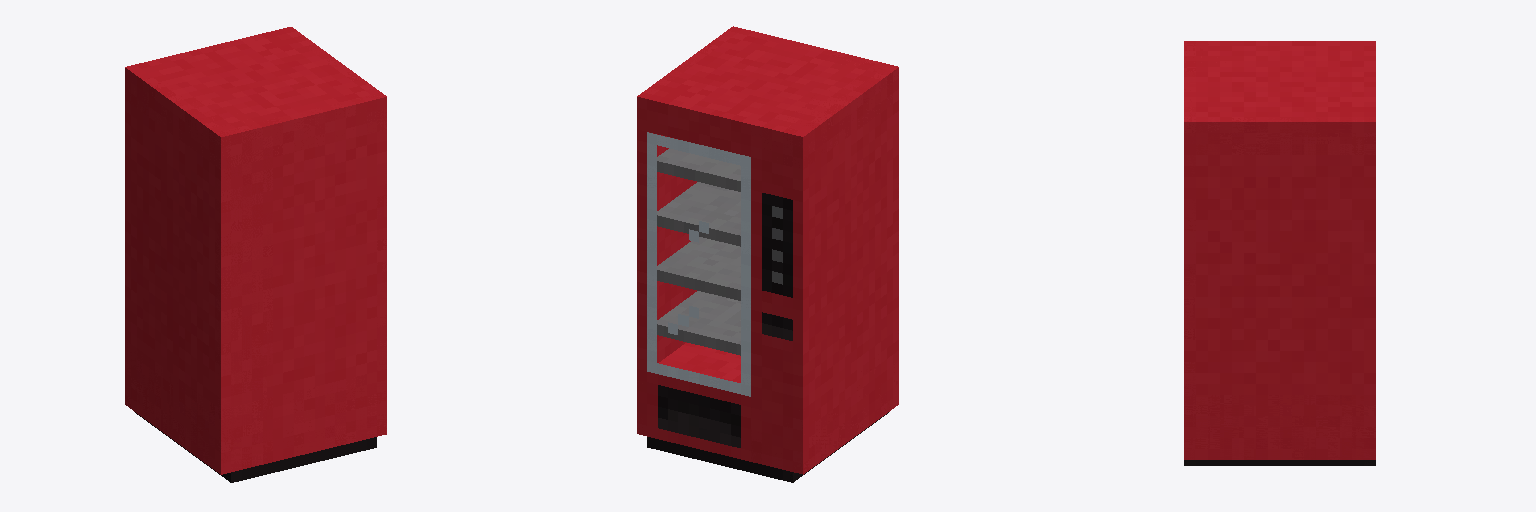
3 renders of one model, left to right at view 1: azimuth 30°, elevation 25°; view 2: azimuth 150°, elevation 25°; view 3: azimuth 270°, elevation 25°, orthographic.
Visible parts, largest first — view 1: direira, atras, fundo, topo, pé, esquerda; view 2: direira, topo, cube, fundo, vidro, esquerda, pé; view 3: esquerda, topo, fundo, direira, atras, pé.
Boxes of the visible parts, <box> form: direira: <box>125,54,272,474</box>; atras: <box>215,93,386,473</box>; fundo: <box>125,340,386,474</box>; topo: <box>125,27,386,166</box>; pé: <box>135,412,376,482</box>; esquerda: <box>282,27,386,434</box>; direira: <box>751,54,898,473</box>; topo: <box>638,27,898,167</box>; cube: <box>657,140,748,355</box>; fundo: <box>637,343,898,474</box>; vidro: <box>647,132,750,396</box>; esquerda: <box>637,26,736,435</box>; pé: <box>647,412,888,482</box>; esquerda: <box>1184,117,1375,459</box>; topo: <box>1184,41,1375,154</box>; fundo: <box>1184,395,1375,459</box>; direira: <box>1184,41,1375,66</box>; atras: <box>1184,41,1195,459</box>; pé: <box>1184,460,1375,465</box>.
Bounding box in the file's own units: 1 × 2 × 1.
1 materials, 1 textured.